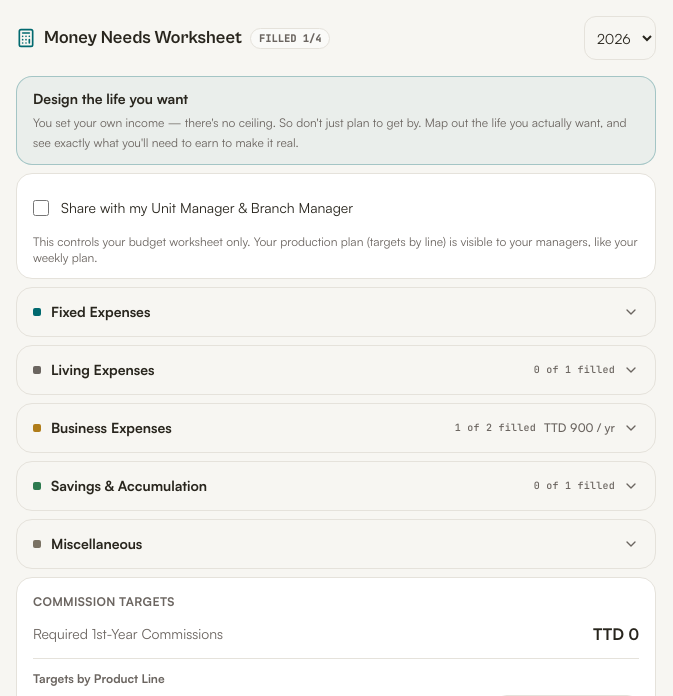
Test case: MoneyNeedsPanel — floating calculators › overridden calc-fed card: shows Reset button
The width and height of the screenshot is (673, 696).
Expected: the heading "Money Needs Worksheet" is shown, [44, 24, 242, 52]
Click the button "Business Expenses 1 of 2 filled TTD 900 / yr".
click(111, 428)  # box [17, 404, 655, 452]
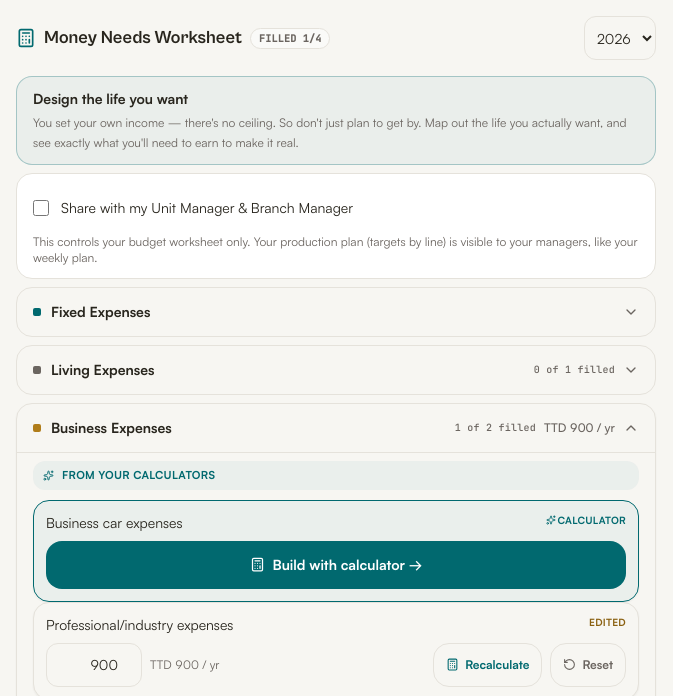
Expected: the button with aria-label "Reset Professional/industry expenses to calculator value" is shown, [550, 642, 626, 686]
